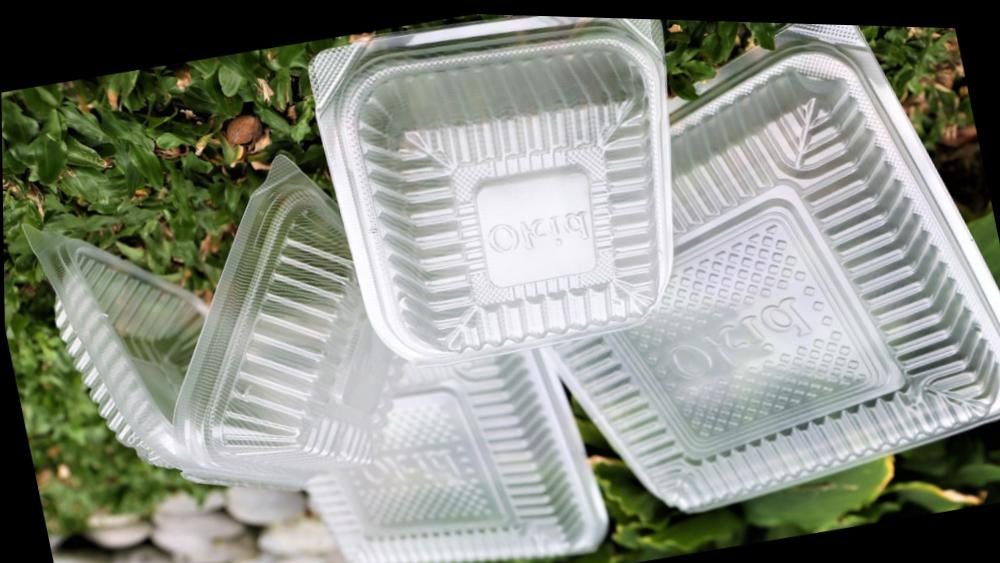plastic: (557, 26, 999, 560), (311, 19, 672, 361), (27, 157, 369, 489), (306, 341, 606, 562)
